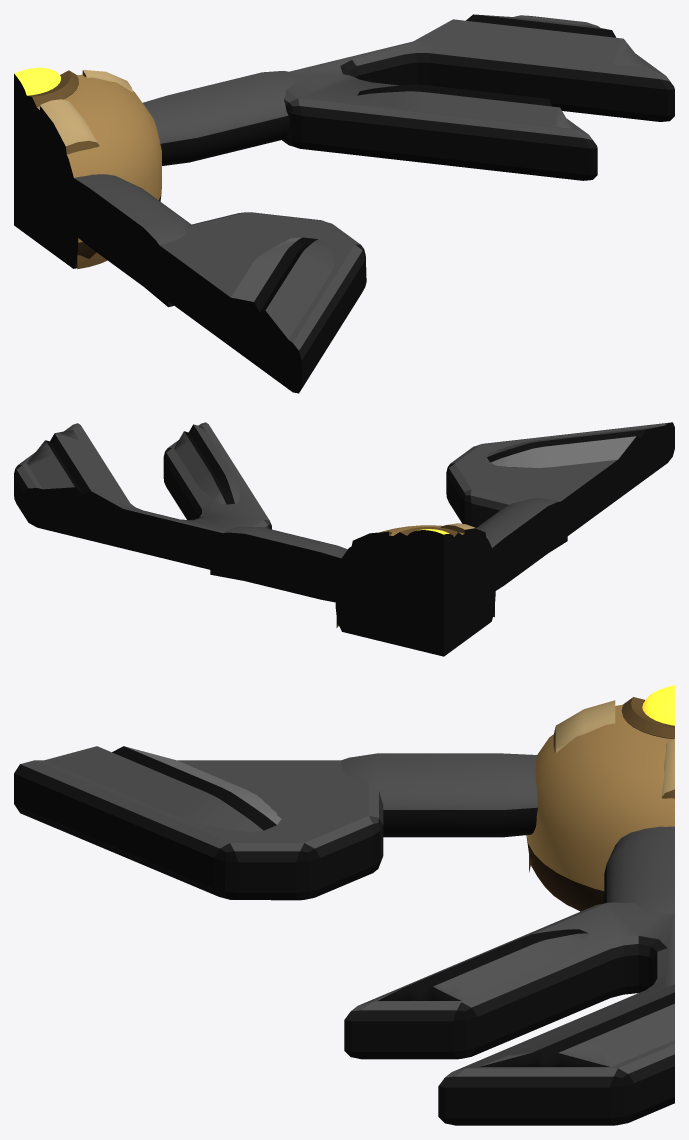
File: spin_claw_121.glb
3 renders of one model, top to bottom at view 1: azimuth 30°, elevation 25°; view 2: azimuth 150°, elevation 25°; view 3: azimuth 270°, elevation 25°, orthographic. The views are drawn at different scales.
Visible parts, largest first — view 1: spin_claw_121_arm1_plate, spin_claw_121_arm2_plate, spin_claw_121_hub_dome, spin_claw_121_arm1_rod, spin_claw_121_arm2_rod, spin_claw_121_arm2_ridge0, spin_claw_121_arm1_ridge0, spin_claw_121_arm1_ridge1, spin_claw_121_hub_rib2, spin_claw_121_hub_lens, spin_claw_121_hub_bezel; view 2: spin_claw_121_arm1_plate, spin_claw_121_hub_dome, spin_claw_121_arm2_plate, spin_claw_121_arm1_rod, spin_claw_121_arm2_rod, spin_claw_121_arm2_ridge0, spin_claw_121_arm1_ridge0, spin_claw_121_arm1_ridge1, spin_claw_121_hub_lens, spin_claw_121_hub_bezel, spin_claw_121_hub_rib2; view 3: spin_claw_121_arm1_plate, spin_claw_121_arm2_plate, spin_claw_121_hub_dome, spin_claw_121_arm2_rod, spin_claw_121_arm2_ridge0, spin_claw_121_arm1_ridge0, spin_claw_121_arm1_ridge1, spin_claw_121_arm1_rod, spin_claw_121_hub_rib2, spin_claw_121_hub_bezel, spin_claw_121_hub_lens, spin_claw_121_hub_rib1.
Boxes of the visible parts, x1,y1,x2,y2 form: spin_claw_121_arm1_plate: (282,15,674,180); spin_claw_121_arm2_plate: (141,212,366,393); spin_claw_121_hub_dome: (14,74,161,268); spin_claw_121_arm1_rod: (143,71,295,165); spin_claw_121_arm2_rod: (53,166,191,307); spin_claw_121_arm2_ridge0: (225,237,333,352); spin_claw_121_arm1_ridge0: (413,14,646,67); spin_claw_121_arm1_ridge1: (357,84,572,128); spin_claw_121_hub_rib2: (40,99,107,269); spin_claw_121_hub_lens: (14,67,60,111); spin_claw_121_hub_bezel: (14,70,78,115); spin_claw_121_arm1_plate: (14,422,271,576); spin_claw_121_hub_dome: (335,525,495,656); spin_claw_121_arm2_plate: (446,422,674,548); spin_claw_121_arm1_rod: (210,526,369,608); spin_claw_121_arm2_rod: (475,498,567,602); spin_claw_121_arm2_ridge0: (487,425,668,468); spin_claw_121_arm1_ridge0: (27,429,129,517); spin_claw_121_arm1_ridge1: (174,424,239,504); spin_claw_121_hub_lens: (405,529,454,556); spin_claw_121_hub_bezel: (394,527,461,555); spin_claw_121_hub_rib2: (440,523,494,617); spin_claw_121_arm1_plate: (344,902,674,1125); spin_claw_121_arm2_plate: (14,760,383,900); spin_claw_121_hub_dome: (526,704,674,911); spin_claw_121_arm2_rod: (340,753,537,837); spin_claw_121_arm2_ridge0: (44,746,281,832); spin_claw_121_arm1_ridge0: (479,984,674,1066); spin_claw_121_arm1_ridge1: (378,929,589,1000); spin_claw_121_arm1_rod: (604,826,674,914); spin_claw_121_hub_rib2: (529,700,615,872); spin_claw_121_hub_bezel: (621,697,674,739); spin_claw_121_hub_lens: (642,685,674,725); spin_claw_121_hub_rib1: (661,738,674,798).
Size of the model in its own units: 23.7 by 6.19 by 21.08.
